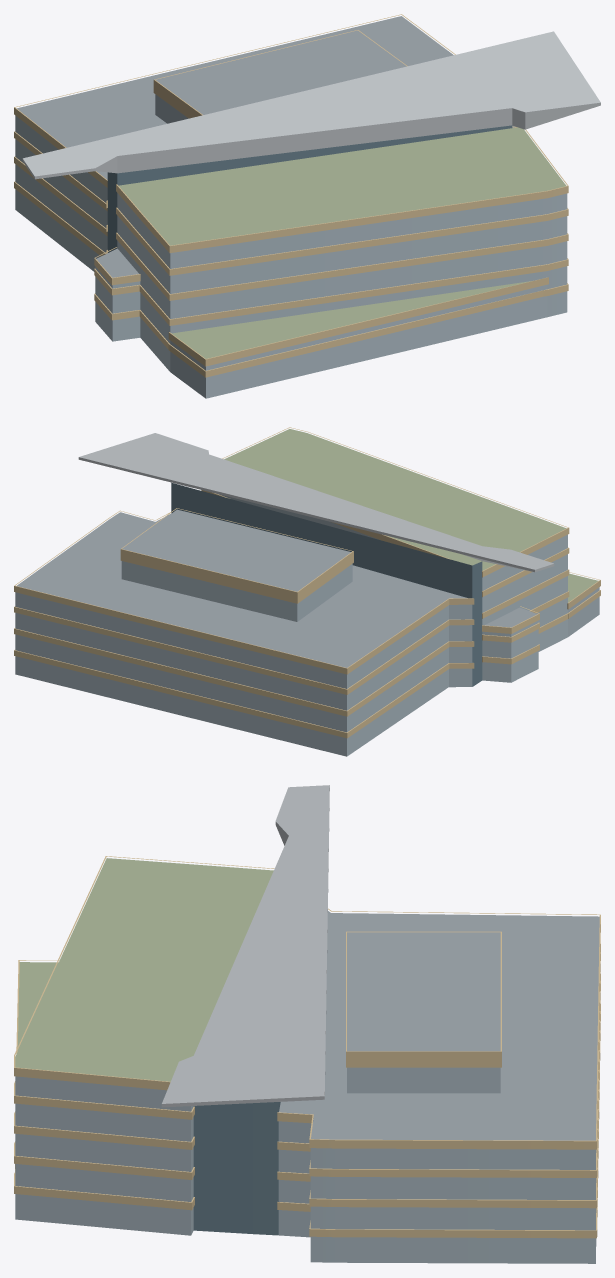
File: msp-minneapolis-central-library.glb
3 renders of one model, top to bottom at view 1: azimuth 30°, elevation 25°; view 2: azimuth 150°, elevation 25°; view 3: azimuth 270°, elevation 25°, orthographic. The views are drawn at different scales.
Parts seen in each view (by area): view 1: Minneapolis Central Library; view 2: Minneapolis Central Library; view 3: Minneapolis Central Library.
Boxes of the visible parts, x1,y1,x2,y2 form: Minneapolis Central Library: [14, 14, 600, 398]; Minneapolis Central Library: [14, 427, 600, 756]; Minneapolis Central Library: [14, 785, 600, 1263].
Size of the model in its own units: 116 by 33.04 by 91.8.
